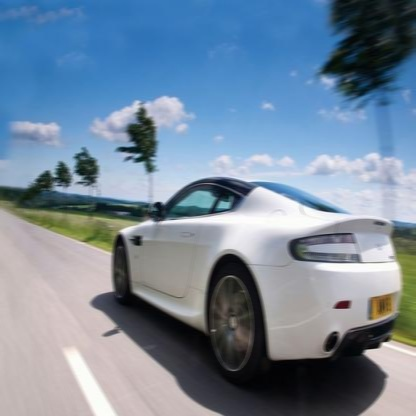Vehicle: (108, 160, 413, 393)
